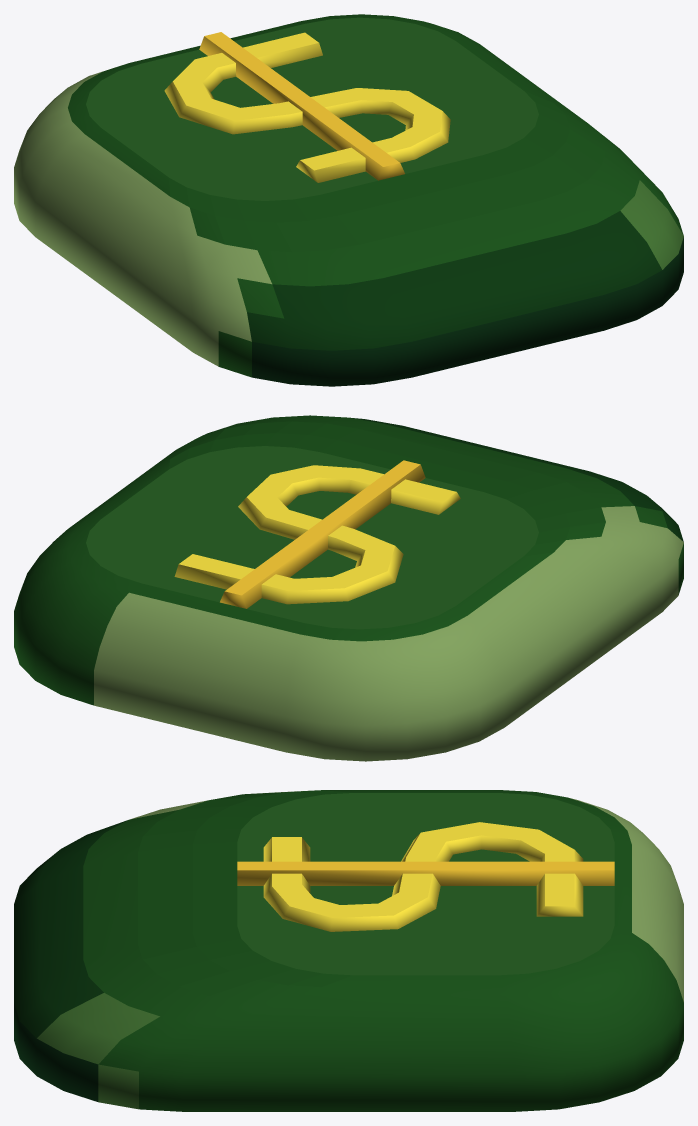
The model's file is newshm-15.glb.
3 renders of one model, top to bottom at view 1: azimuth 30°, elevation 25°; view 2: azimuth 150°, elevation 25°; view 3: azimuth 270°, elevation 25°, orthographic. The views are drawn at different scales.
Visible parts, largest first — view 1: newshm-15; view 2: newshm-15; view 3: newshm-15.
Part boxes in pixels (bbox=[...]): newshm-15: bbox=[14, 14, 683, 386]; newshm-15: bbox=[14, 415, 683, 761]; newshm-15: bbox=[14, 790, 683, 1111].
Bounding box in the file's own units: 1.92 × 0.445 × 2.25.
